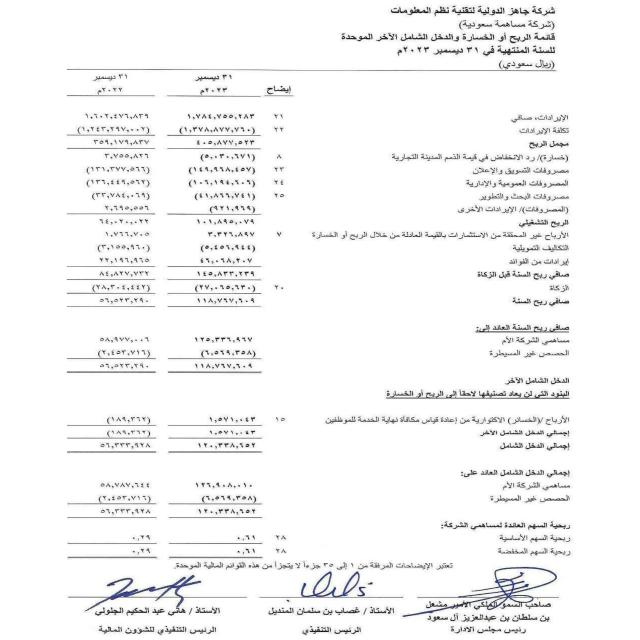financial_sheets: (336, 28, 564, 47)
table: (37, 55, 325, 573)
